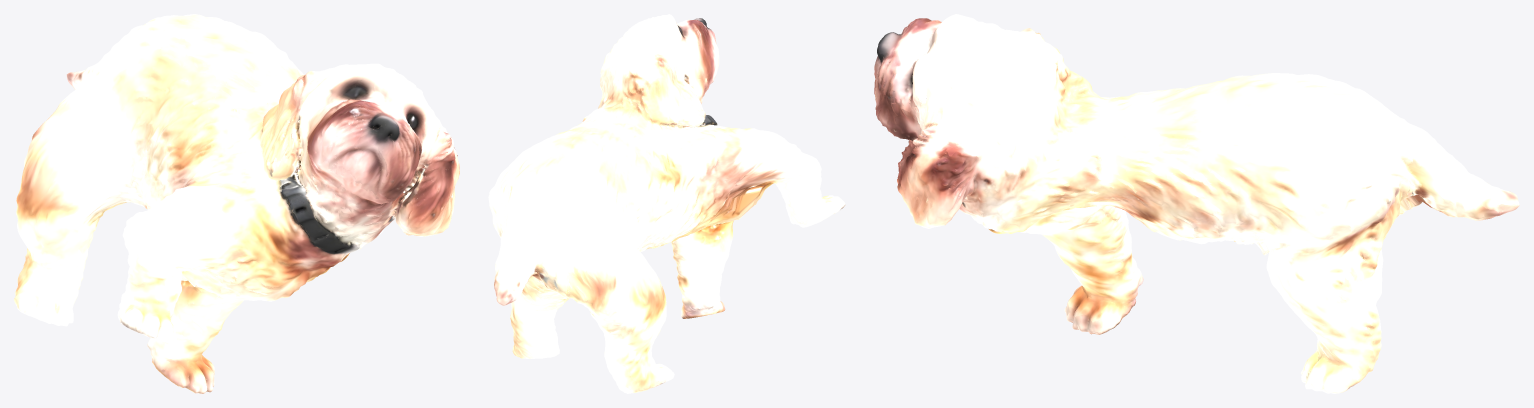
Rendered from sleep_pose_v7.glb.
3 renders of one model, left to right at view 1: azimuth 30°, elevation 25°; view 2: azimuth 150°, elevation 25°; view 3: azimuth 270°, elevation 25°, orthographic. The views are drawn at different scales.
Visible parts, largest first — view 1: char1; view 2: char1; view 3: char1.
Part boxes in pixels (x1=…): char1: x1=14, y1=14, x2=459, y2=393; char1: x1=488, y1=14, x2=845, y2=393; char1: x1=874, y1=14, x2=1519, y2=393.
Bounding box in the file's own units: 0.00271 × 0.00275 × 0.00433.
1 material, 1 textured.
